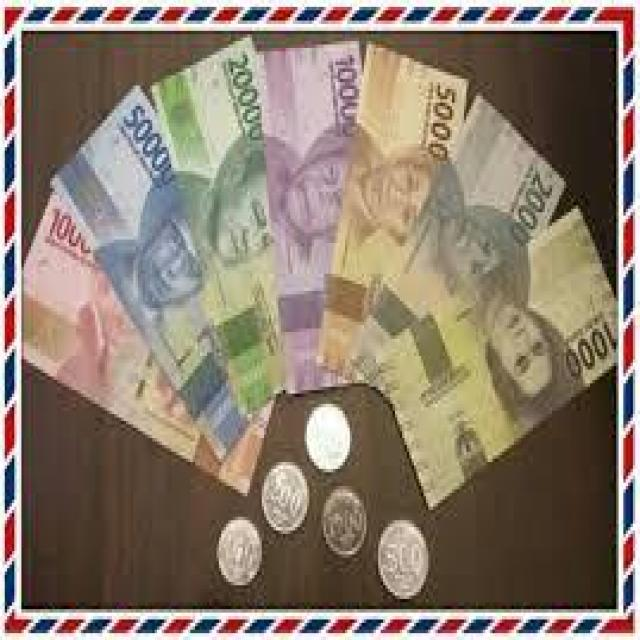500-silver: (375, 516, 435, 610)
